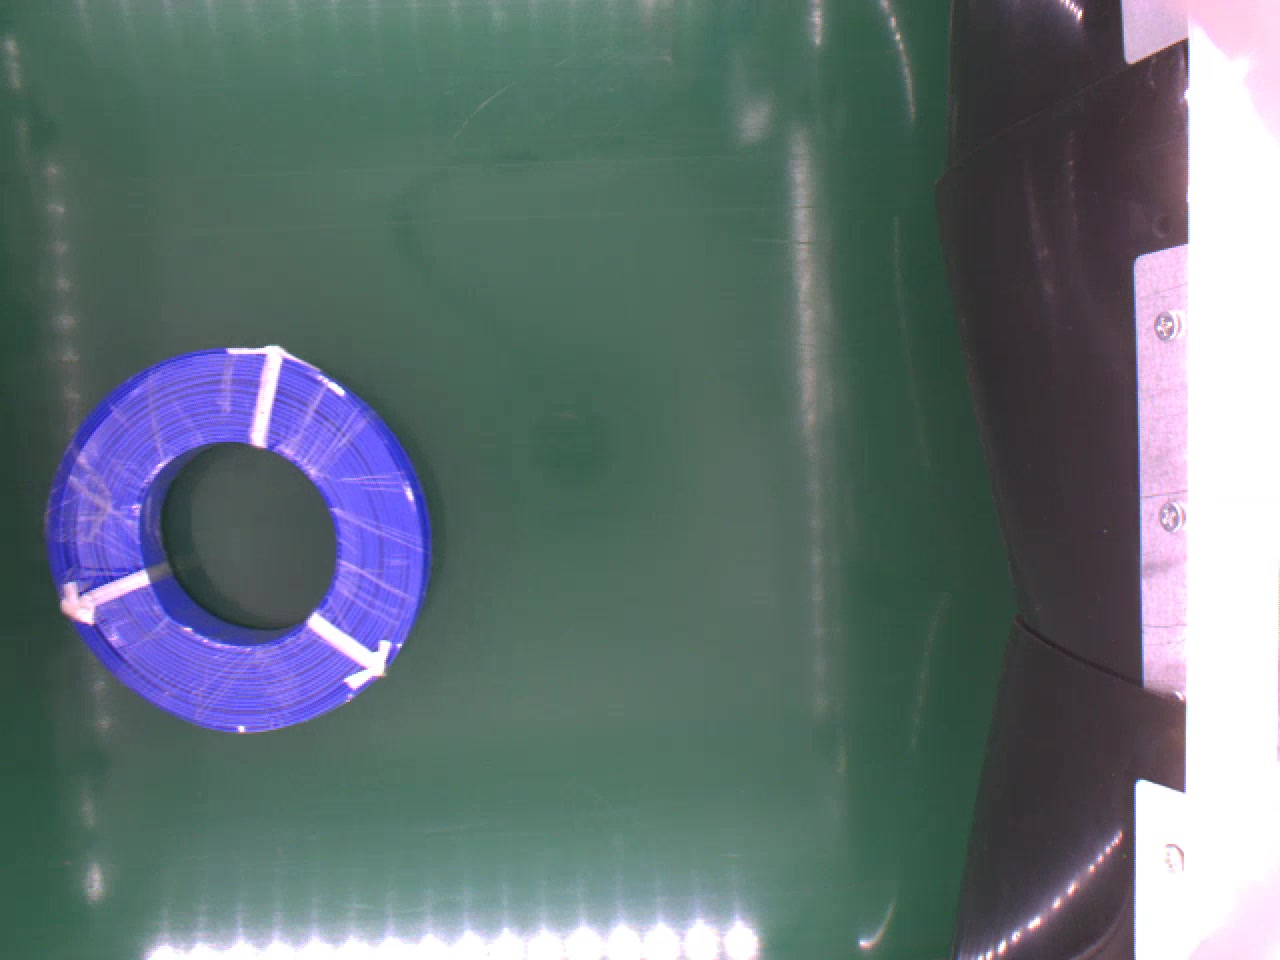blue: (45, 340, 432, 736)
